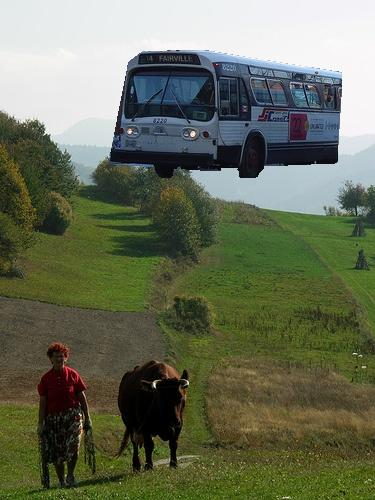tampered: (109, 51, 342, 178)
